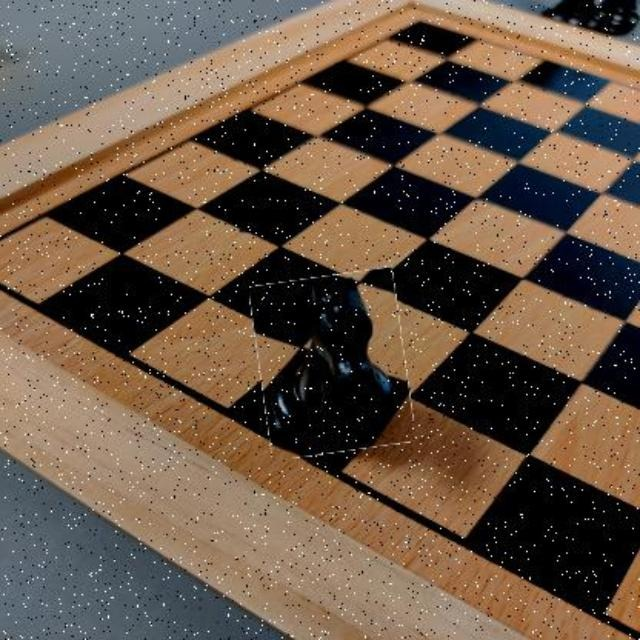black-knight: (255, 272, 409, 456)
